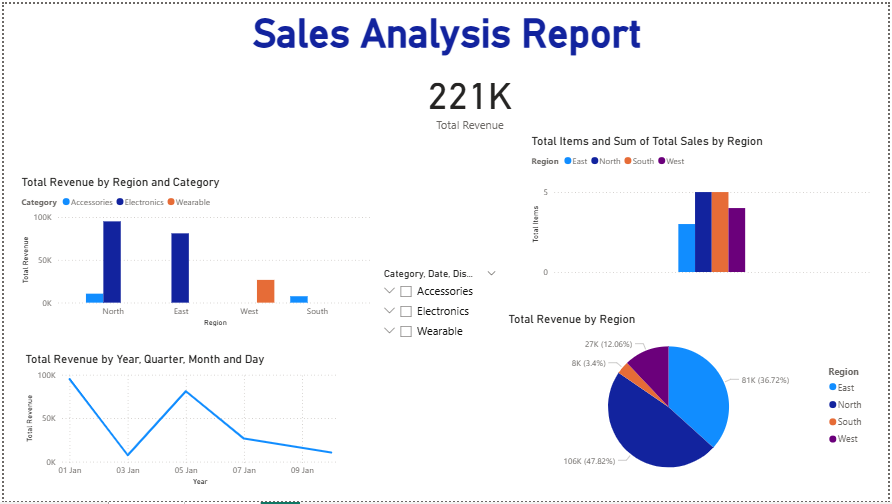

The page's visual inventory and layout, read from the dashboard file:
{"tool":"powerbi","page":{"name":"Page 1","canvas":[1280,720],"ordinal":0},"visuals":[{"type":"clusteredColumnChart","fields":{"Y":["SalesData.Total Revenue"],"Category":["SalesData.Region"],"Series":["SalesData.Category"]},"box":[20,248,518,224],"z":0},{"type":"lineChart","fields":{"Y":["SalesData.Total Revenue"],"Category":["SalesData.Date.Variation.Date Hierarchy.Year","SalesData.Date.Variation.Date Hierarchy.Quarter","SalesData.Date.Variation.Date Hierarchy.Month","SalesData.Date.Variation.Date Hierarchy.Day"]},"box":[26,504,470,198],"z":1000},{"type":"clusteredColumnChart","fields":{"Y":["SalesData.Total Items"],"Series":["SalesData.Region"]},"box":[760,188,504,214],"z":2000},{"type":"pieChart","fields":{"Category":["SalesData.Region","SalesData.Date.Variation.Date Hierarchy.Year","SalesData.Date.Variation.Date Hierarchy.Quarter","SalesData.Date.Variation.Date Hierarchy.Month","SalesData.Date.Variation.Date Hierarchy.Day"],"Y":["SalesData.Total Revenue"]},"box":[726,446,538,256],"z":3000},{"type":"card","fields":{"Values":["SalesData.Total Revenue"]},"box":[262,84,826,104],"z":4000},{"type":"slicer","fields":{"Values":["SalesData.Category","SalesData.Date","SalesData.Discount"]},"box":[538,378,188,252],"z":4001},{"type":"textbox","title":"Sales Analysis Report","box":[20,14,1244,70],"z":4002}]}

Visuals, with their boxes in screenshot pixels (x1, y1, x2, y2), scaled from the page's 1280x720 canvas onto the 892x504 screenshot:
clusteredColumnChart - SalesData.Total Revenue x SalesData.Region: [left=14, top=174, right=375, bottom=330]
lineChart - SalesData.Total Revenue x SalesData.Date.Variation.Date Hierarchy.Year: [left=18, top=353, right=346, bottom=491]
clusteredColumnChart - SalesData.Total Items x SalesData.Region: [left=530, top=132, right=881, bottom=281]
pieChart - SalesData.Region x SalesData.Date.Variation.Date Hierarchy.Year: [left=506, top=312, right=881, bottom=491]
card - SalesData.Total Revenue: [left=183, top=59, right=758, bottom=132]
slicer - SalesData.Category x SalesData.Date: [left=375, top=265, right=506, bottom=441]
"Sales Analysis Report" textbox: [left=14, top=10, right=881, bottom=59]
